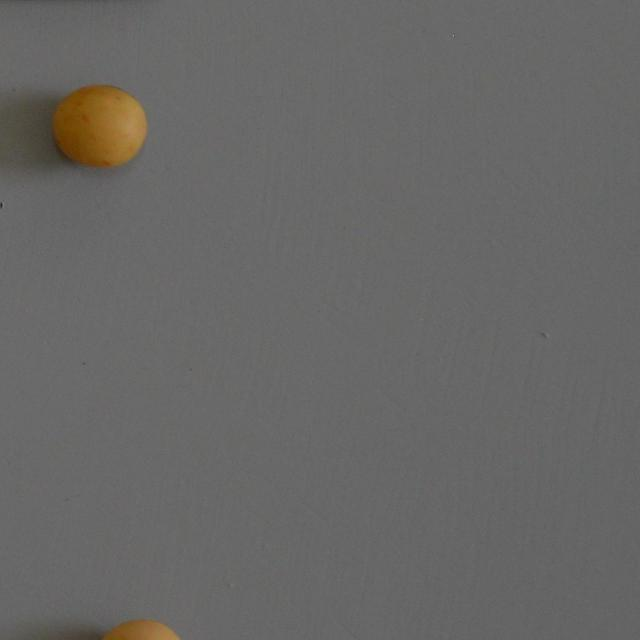cuerpos_extranos: (44, 76, 144, 181), (84, 614, 184, 640)
